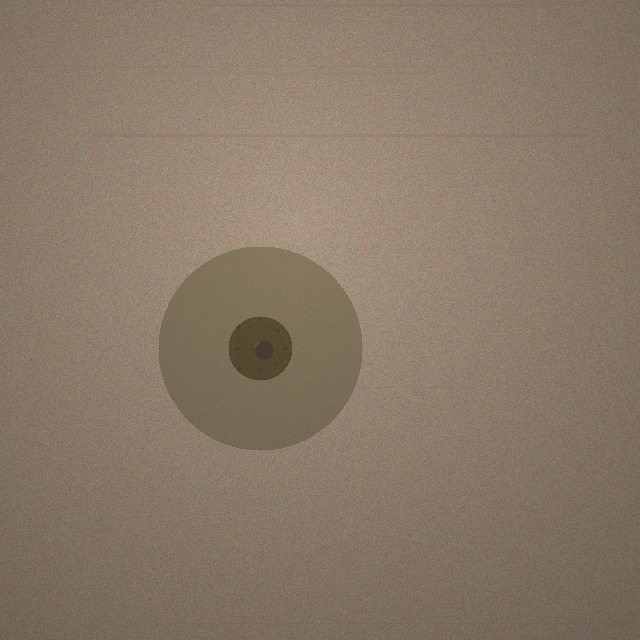cold_weld: (158, 246, 362, 450)
